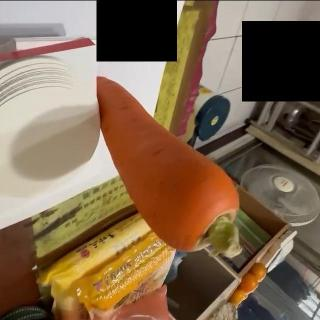carrot: (92, 76, 242, 257)
